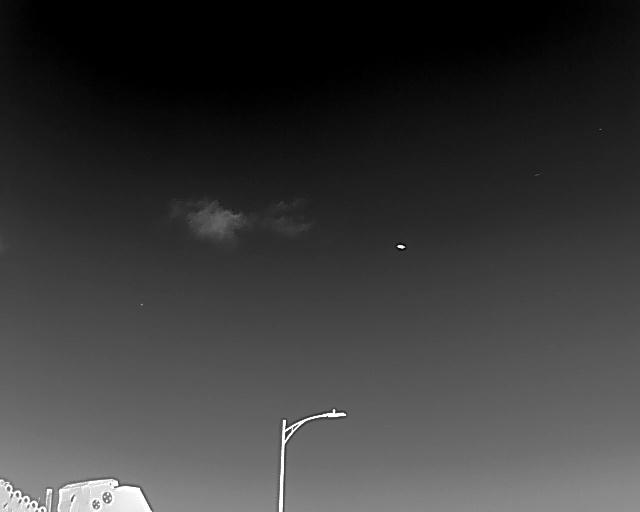fpv-drone: (396, 244, 405, 250)
